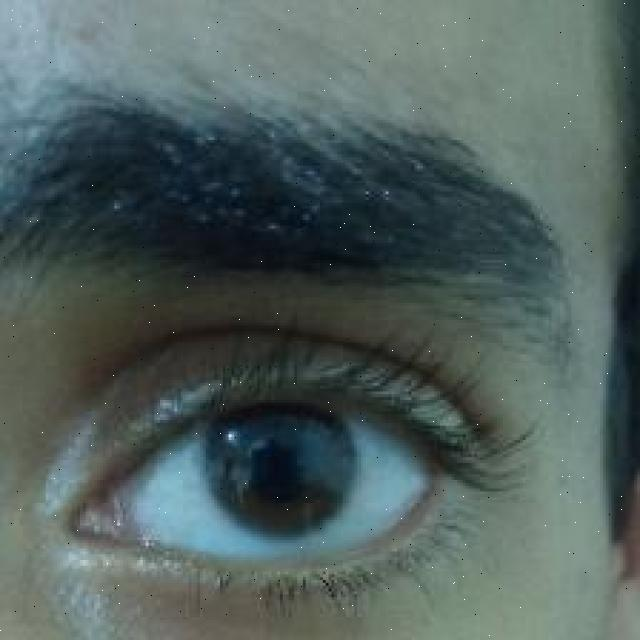Normal: (0, 237, 617, 640)
